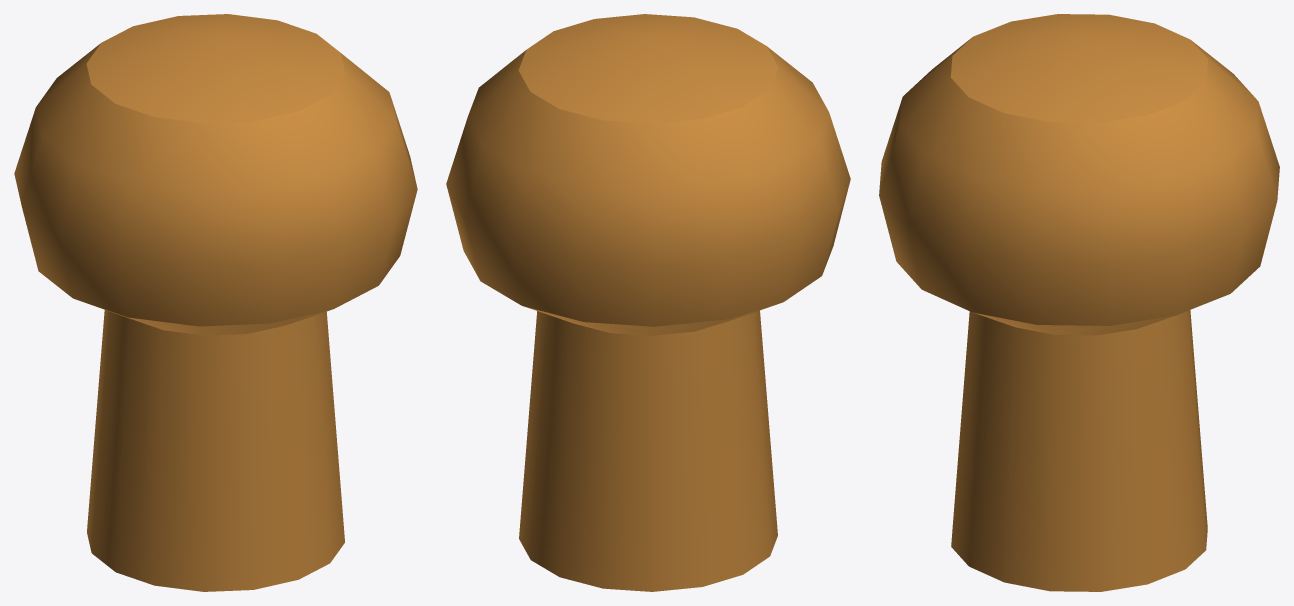
Rendered from Cork.fbx.
The picture shows the model from 3 angles, left to right: view 1: azimuth 30°, elevation 25°; view 2: azimuth 150°, elevation 25°; view 3: azimuth 270°, elevation 25°; orthographic projection.
Visible parts, largest first — view 1: Cork; view 2: Cork; view 3: Cork.
Boxes of the visible parts, <box> form: Cork: <box>14,14,417,591</box>; Cork: <box>446,14,850,591</box>; Cork: <box>879,14,1279,591</box>.
Size of the model in its own units: 3.07 by 4.23 by 3.07.
